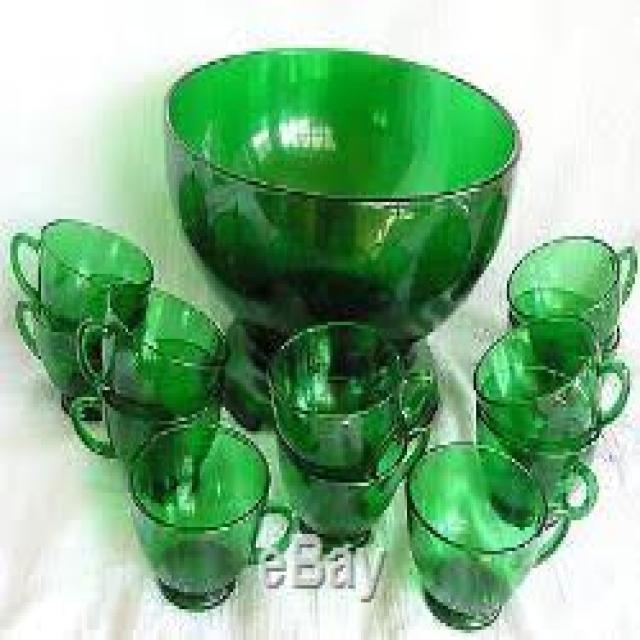glass: (159, 41, 517, 431), (123, 411, 294, 613), (405, 438, 569, 626), (264, 315, 435, 476), (74, 277, 228, 414), (471, 308, 627, 442), (277, 418, 435, 548), (505, 230, 638, 360), (8, 216, 149, 329), (67, 376, 220, 476), (474, 404, 597, 527), (10, 291, 133, 411)
